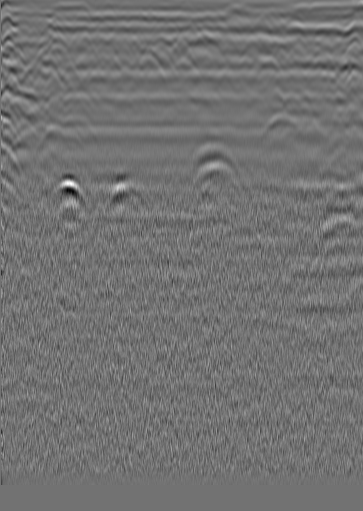가스: (102, 175, 148, 205)
상수: (306, 40, 326, 60)
우수: (168, 35, 188, 55)
